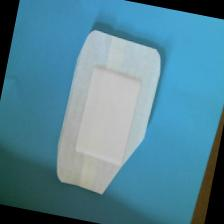Cut: (49, 25, 173, 203)
